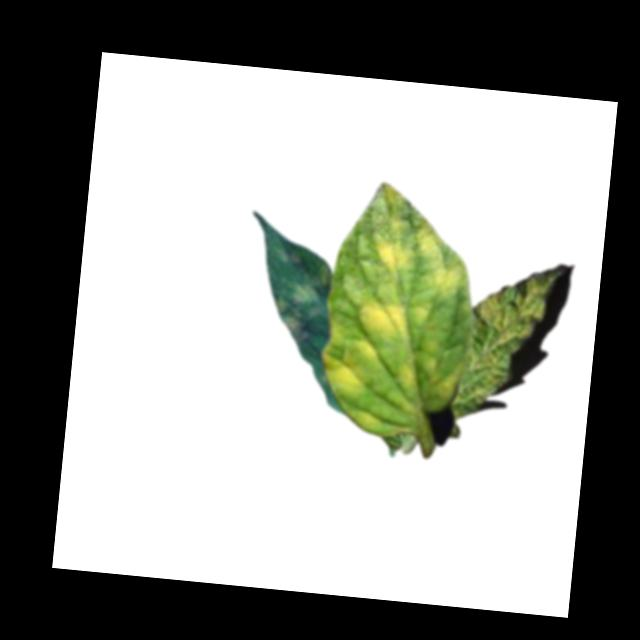Leaf_Mold: (448, 266, 556, 427), (371, 181, 451, 275), (271, 261, 331, 347), (357, 293, 440, 347), (316, 335, 387, 394), (396, 352, 445, 395), (431, 260, 468, 303)
